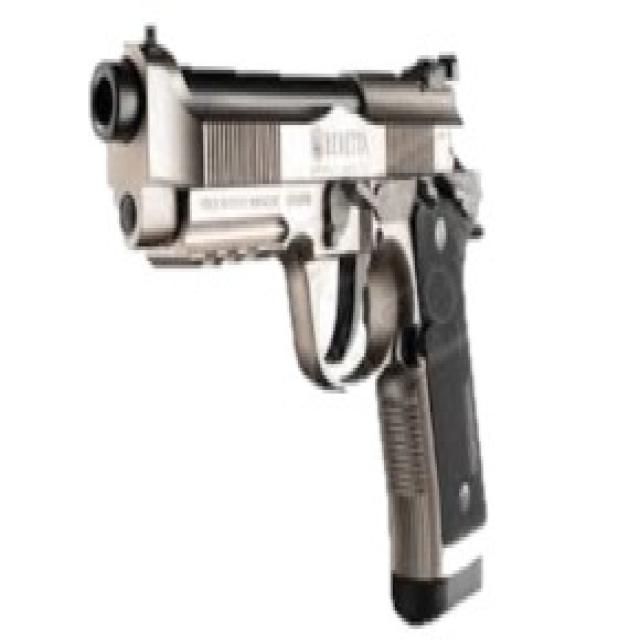pistol: (88, 19, 495, 630)
